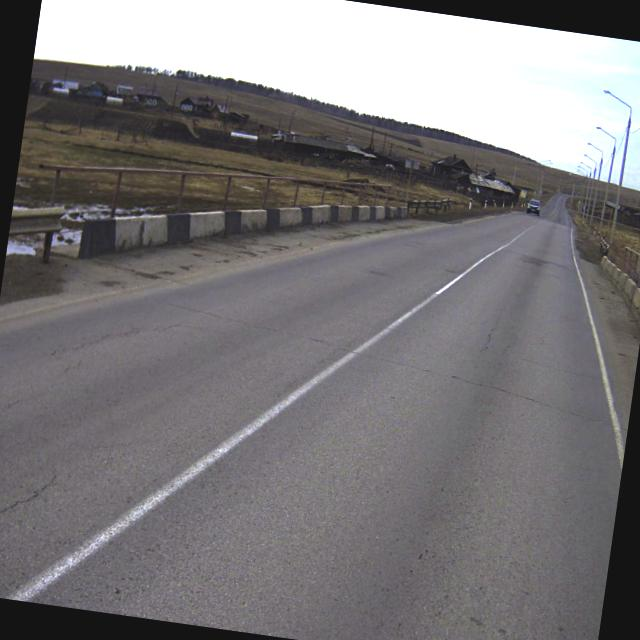road: (0, 194, 626, 640)
